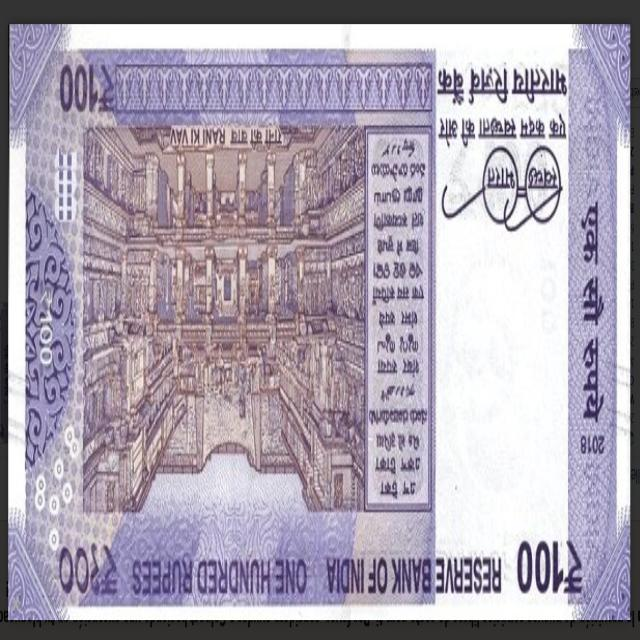100IndianRupees: (9, 27, 630, 616), (10, 27, 439, 619), (299, 38, 631, 619)
